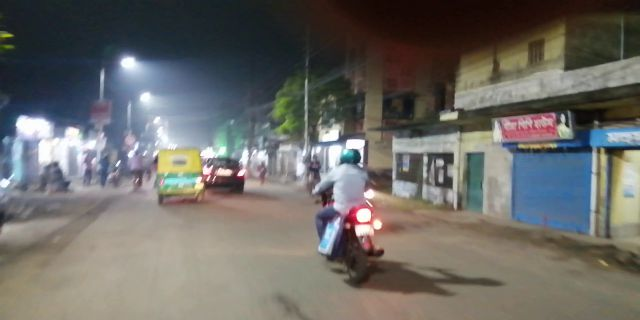Autorickshaw: (154, 148, 207, 207)
Motorbike: (309, 148, 387, 285)
